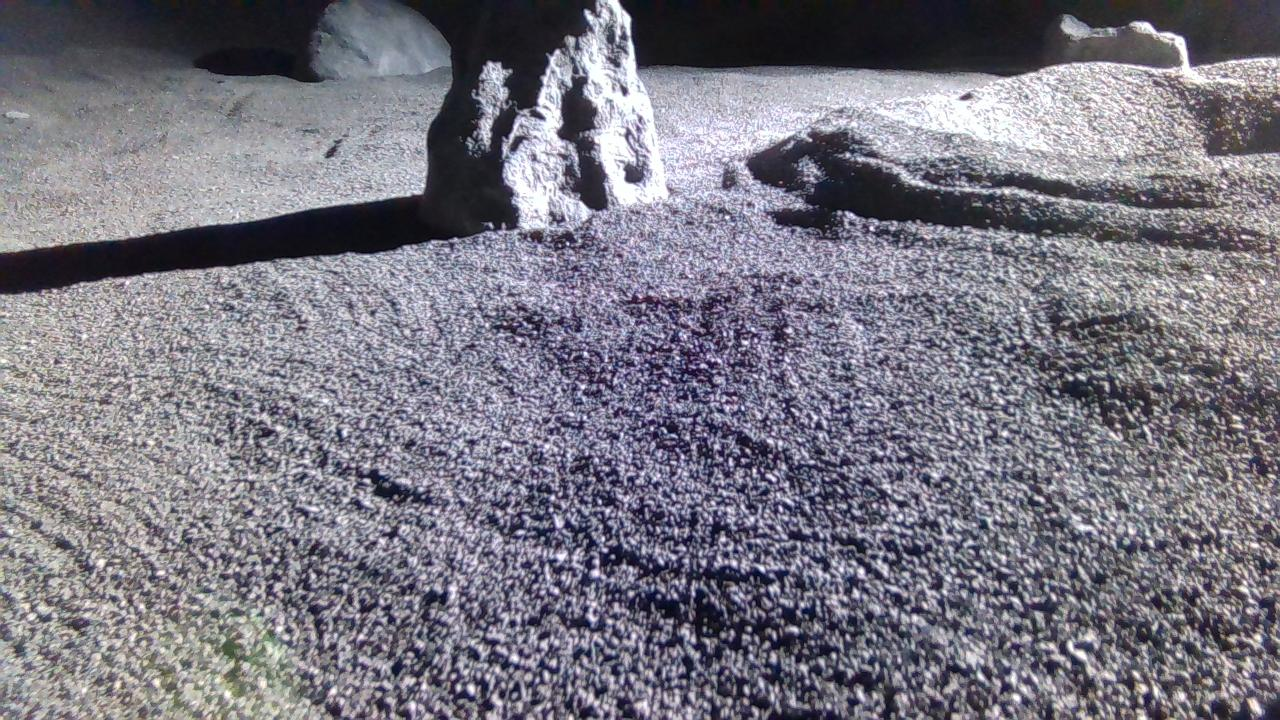rock: (421, 0, 668, 234), (308, 0, 451, 78)
